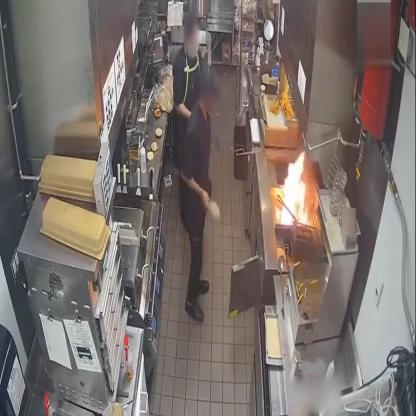fire: (277, 145, 313, 230)
